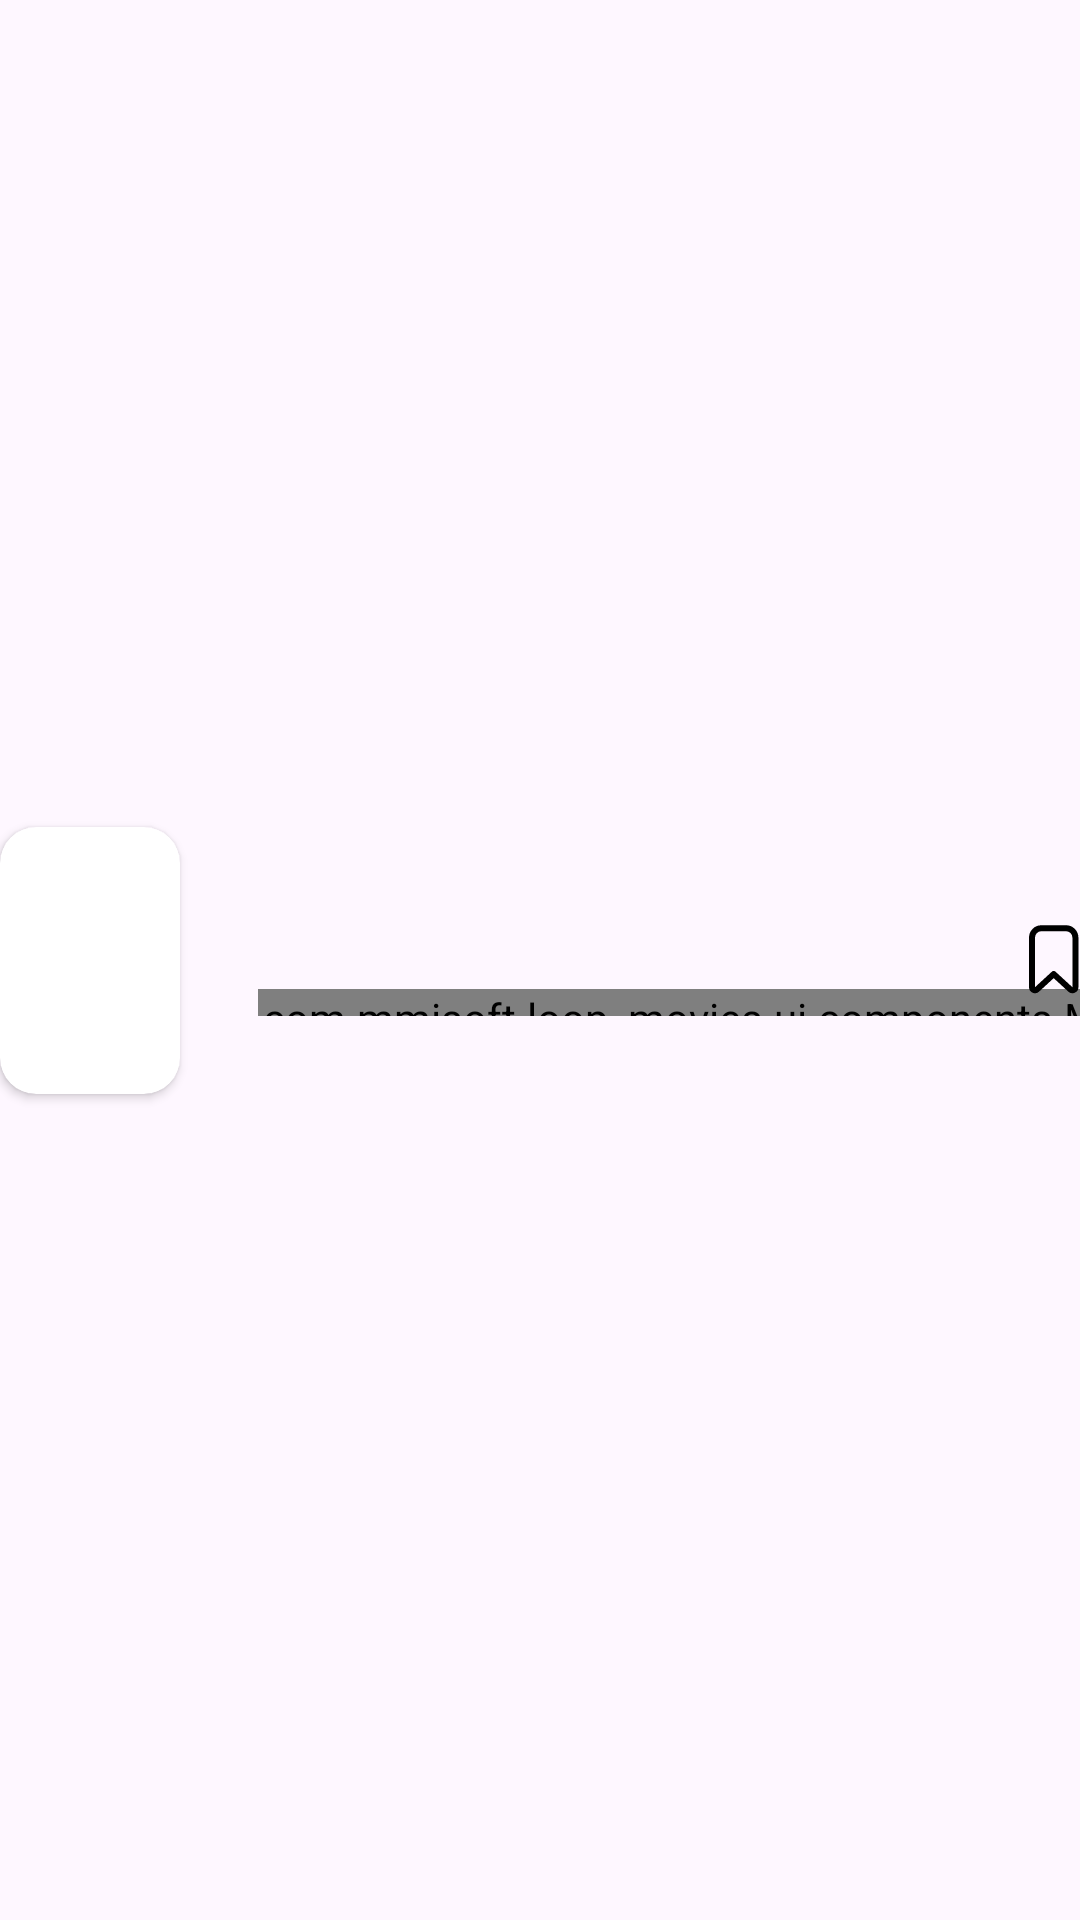

Icon bounding boxes for this 1080*1920 phone screenshot, format bbox=[x1, y1, x2, y2]:
bookmark empty: bbox=[1029, 925, 1080, 996]
